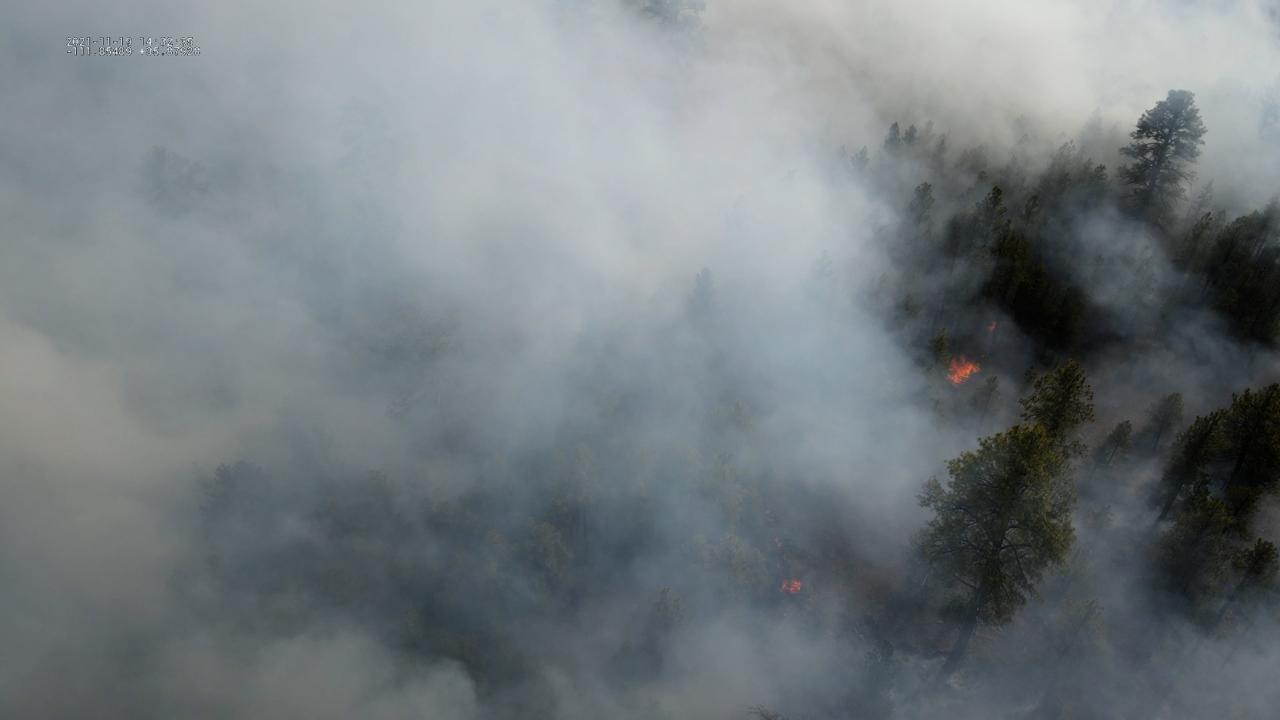fire: (945, 353, 983, 390), (778, 578, 804, 594), (984, 321, 1000, 333), (774, 536, 784, 549)
smoke: (0, 0, 1280, 720)
